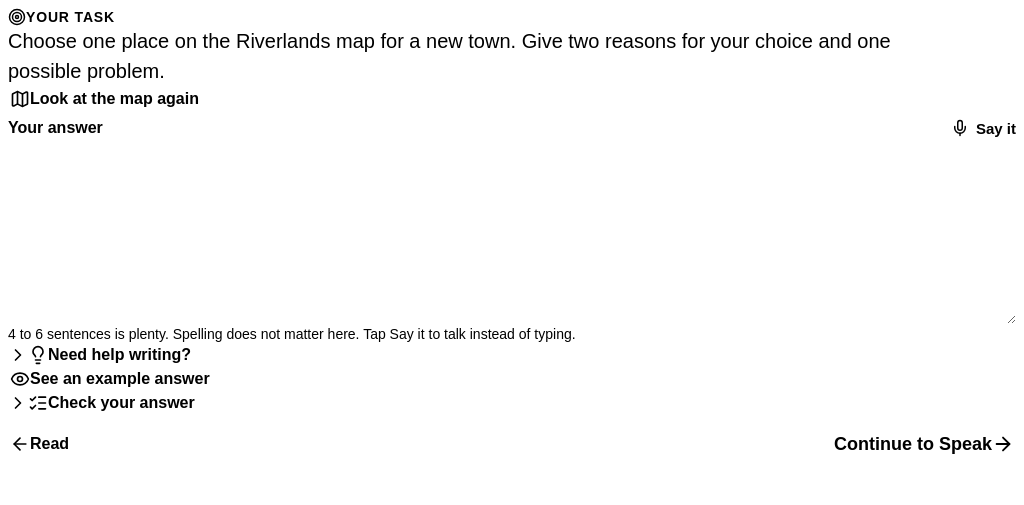
Say it in the lesson › explains in the helper line when the microphone is refused
This screenshot has width=1024, height=505.
Click the button "Say it" at (980, 128), box [944,112,1016,144]
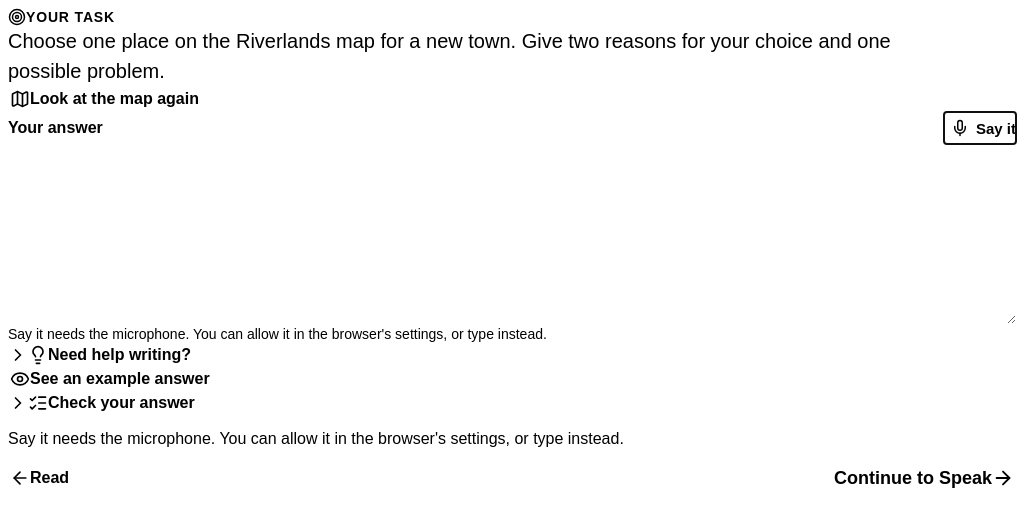
expect the 2nd text "Say it needs the microphone" is shown: met, box [8,430,624,447]
Typing takes the note away.
Type "Hi" into the text box labelled "Your answer" at (512, 234), box [8,144,1016,324]
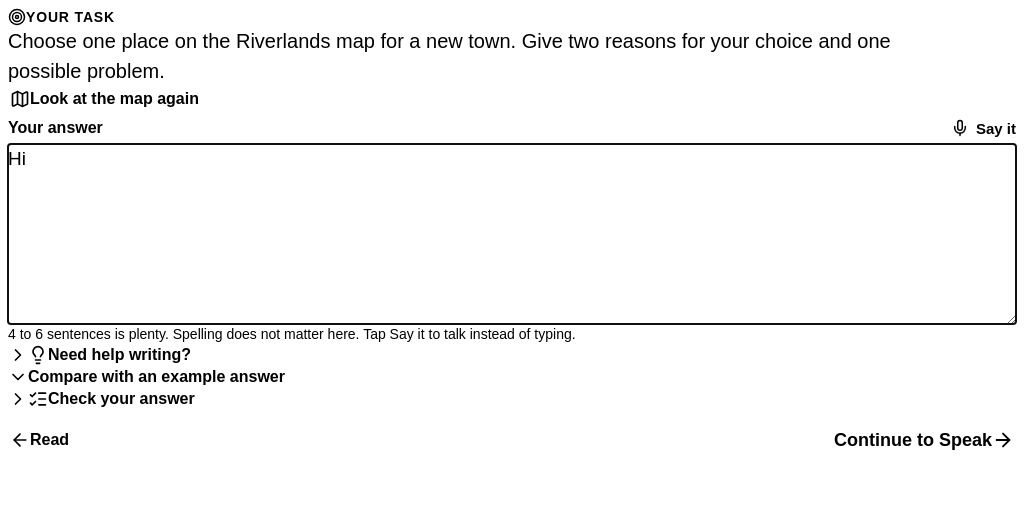
expect the text "Say it needs the microphone" is gone: met
